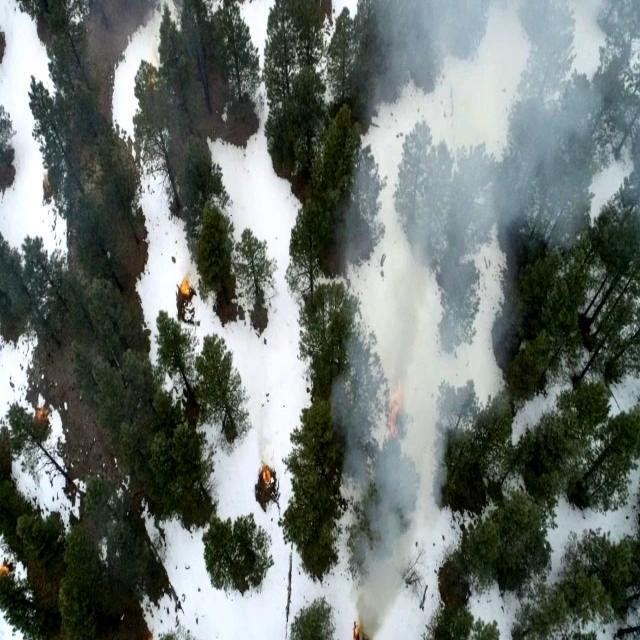Fire: (258, 461, 280, 497), (177, 280, 198, 314)
Smoke: (340, 0, 511, 626), (354, 0, 636, 261), (67, 0, 188, 243)
